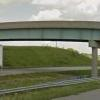Bridge: (5, 7, 96, 59)
